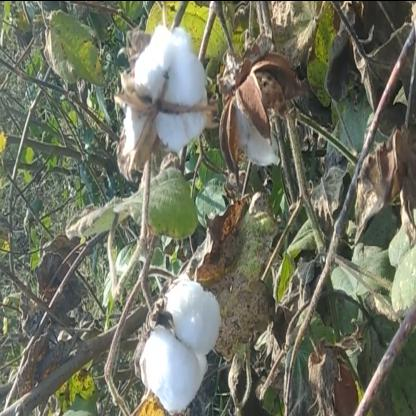cotton_ready: (112, 23, 219, 181), (128, 262, 223, 409)
